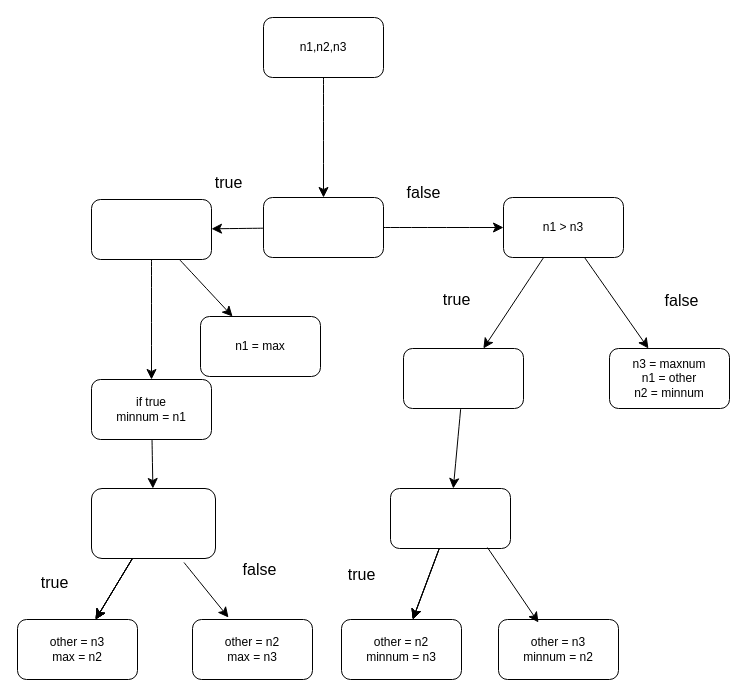
Image size: 747x697. Some labels were removed from this diagram. Here are the shapes that lost their labels. From the top down, the centre of each, then its label:
pixel 151 229: n1 < n3
pixel 323 227: n1 < n2
pixel 463 378: n1 = maxnum
pixel 153 523: n3 < n2
pixel 450 518: n2 > n3
